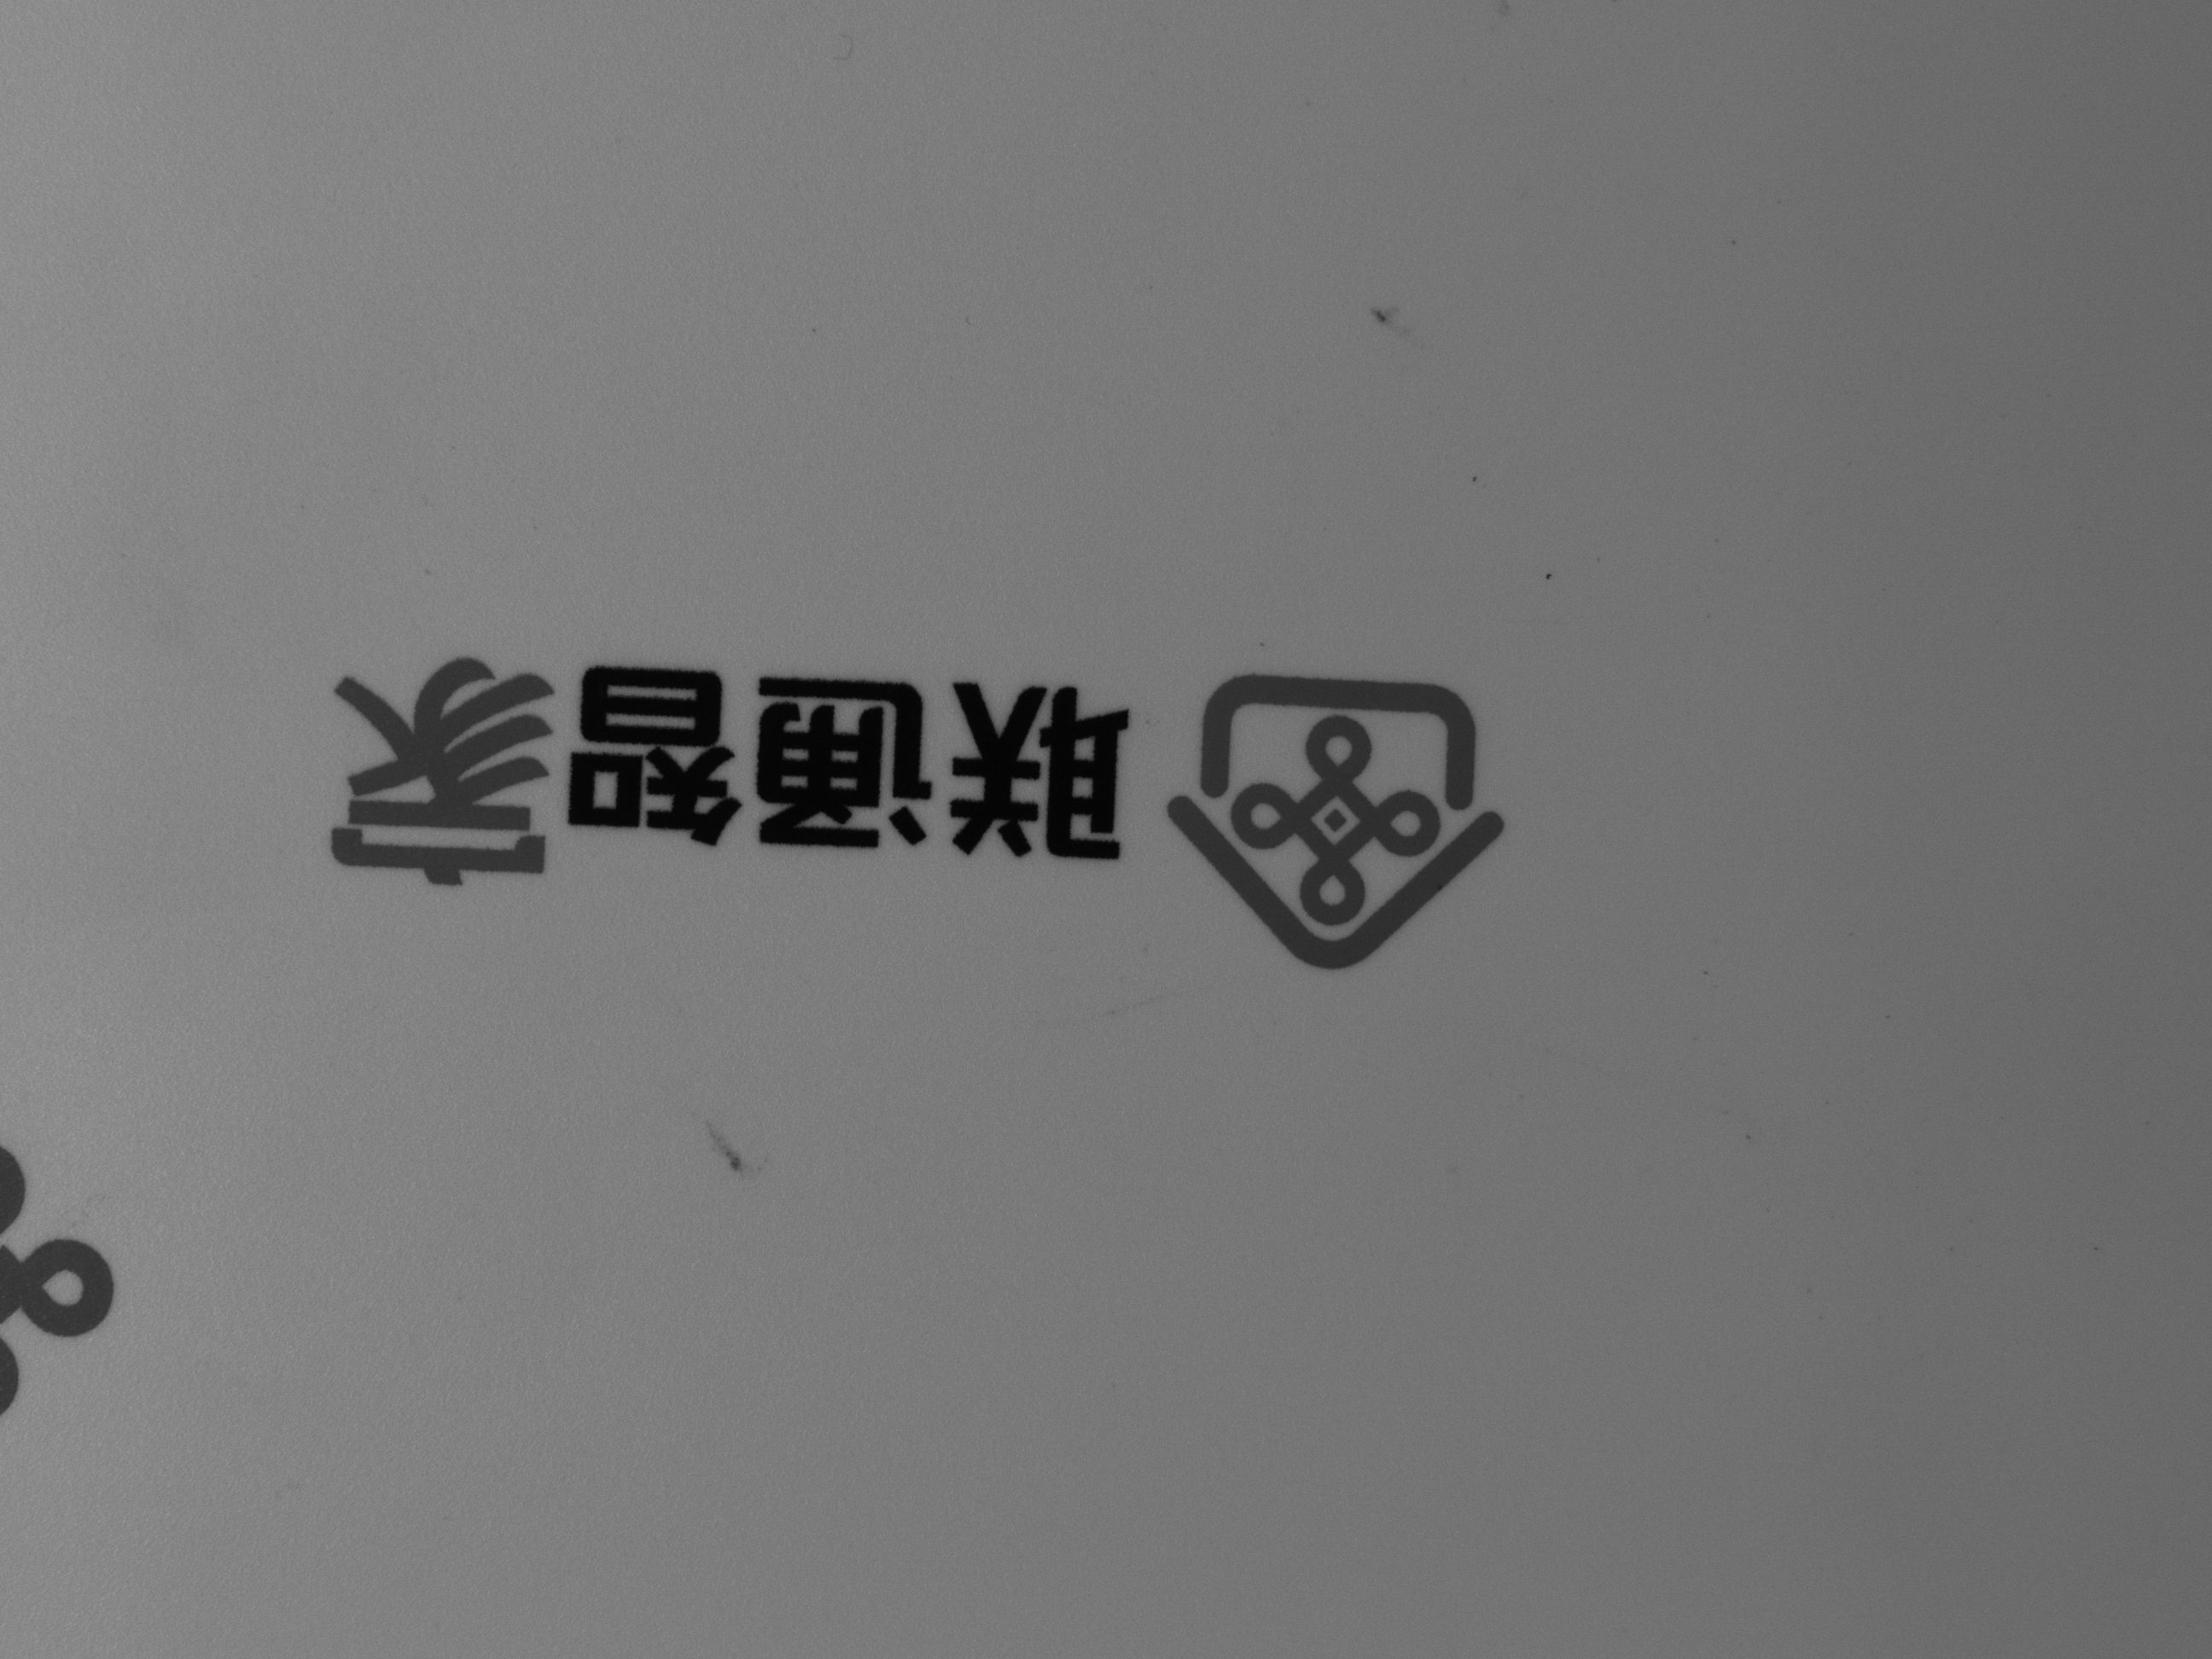BY_F6610Unicome: (291, 573, 1529, 995)
